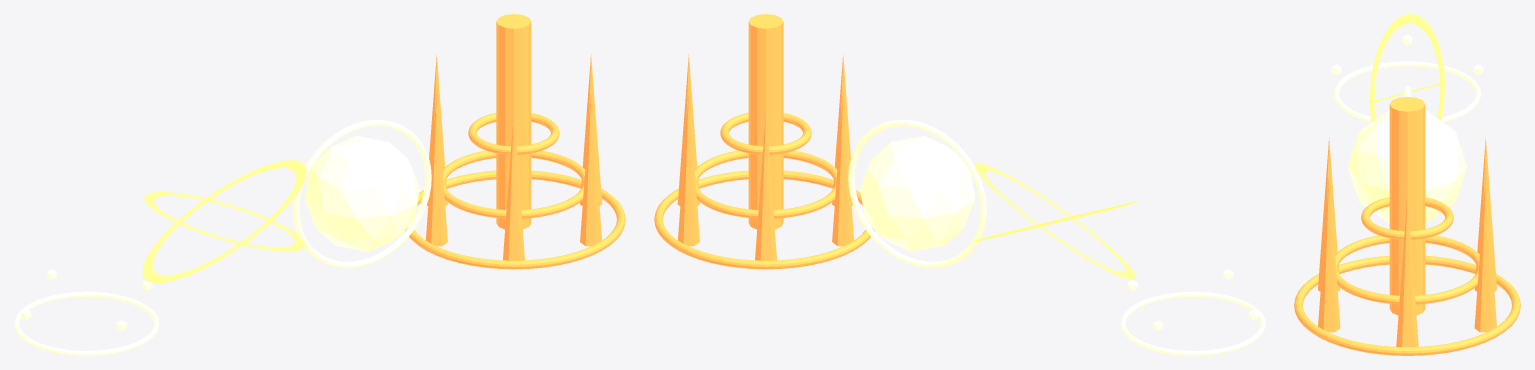
File: ribka_skills_vfx.glb
3 views of the same model, side by side, from view 1: azimuth 30°, elevation 25°; view 2: azimuth 150°, elevation 25°; view 3: azimuth 270°, elevation 25° (orthographic).
Parts seen in each view (by area): view 1: VFX_Ultimate, VFX_Skill_2, VFX_Skill_1, VFX_Passive; view 2: VFX_Ultimate, VFX_Skill_2, VFX_Passive, VFX_Skill_1; view 3: VFX_Ultimate, VFX_Skill_2, VFX_Passive, VFX_Skill_1.
Part boxes in pixels (x1=…): VFX_Ultimate: x1=405, y1=14, x2=625, y2=269; VFX_Skill_2: x1=293, y1=119, x2=431, y2=267; VFX_Skill_1: x1=142, y1=160, x2=306, y2=283; VFX_Passive: x1=14, y1=269, x2=159, y2=355; VFX_Ultimate: x1=654, y1=14, x2=874, y2=269; VFX_Skill_2: x1=848, y1=119, x2=986, y2=267; VFX_Passive: x1=1120, y1=269, x2=1265, y2=355; VFX_Skill_1: x1=973, y1=163, x2=1136, y2=279; VFX_Ultimate: x1=1294, y1=96, x2=1520, y2=355; VFX_Skill_2: x1=1347, y1=86, x2=1467, y2=223; VFX_Passive: x1=1331, y1=34, x2=1483, y2=122; VFX_Skill_1: x1=1370, y1=14, x2=1444, y2=121.
Bounding box in the file's own units: 8.55 × 2.88 × 2.81.
